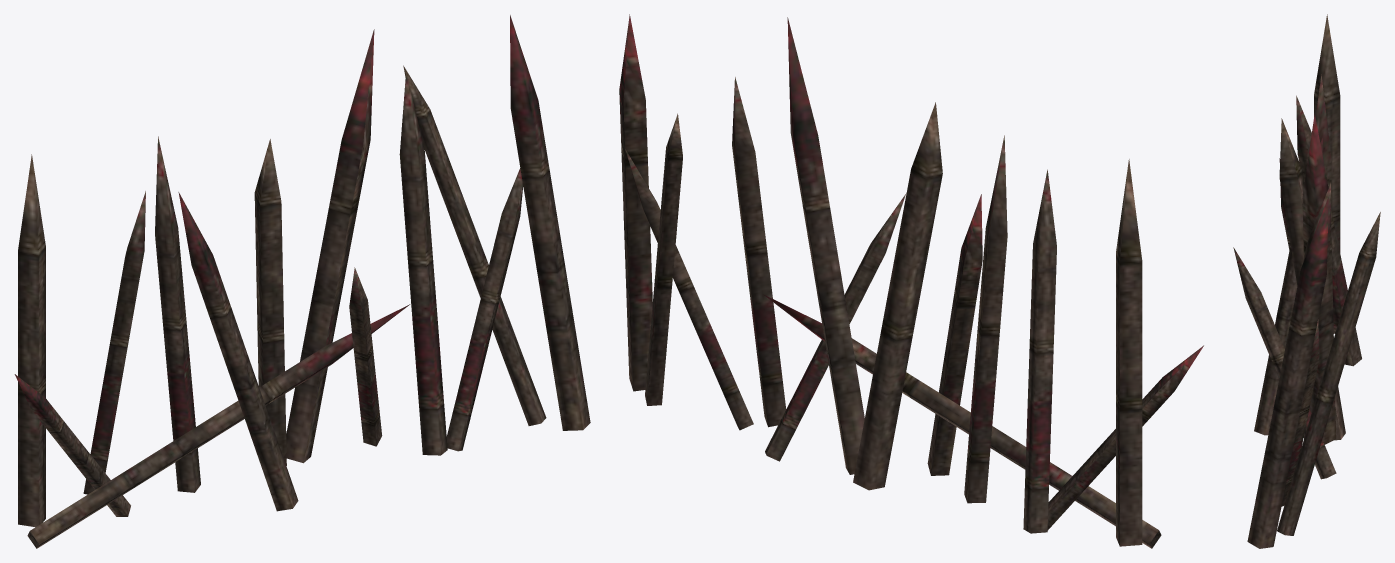
Rendered from Camp1.fbx.
3 views of the same model, side by side, from view 1: azimuth 30°, elevation 25°; view 2: azimuth 150°, elevation 25°; view 3: azimuth 270°, elevation 25° (orthographic). The views are drawn at different scales.
Parts seen in each view (by area): view 1: Camp1; view 2: Camp1; view 3: Camp1.
Boxes of the visible parts, bbox=[...] form: Camp1: bbox=[14, 15, 590, 548]; Camp1: bbox=[619, 14, 1203, 548]; Camp1: bbox=[1233, 14, 1380, 548].
Bounding box in the file's own units: 45.76 × 33.5 × 12.01.
